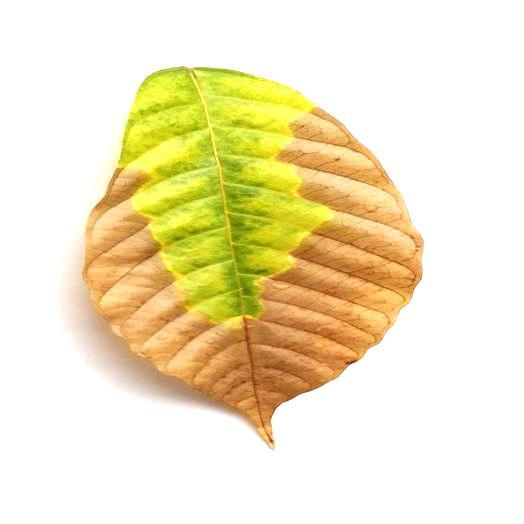Potassium: (84, 67, 420, 445)
